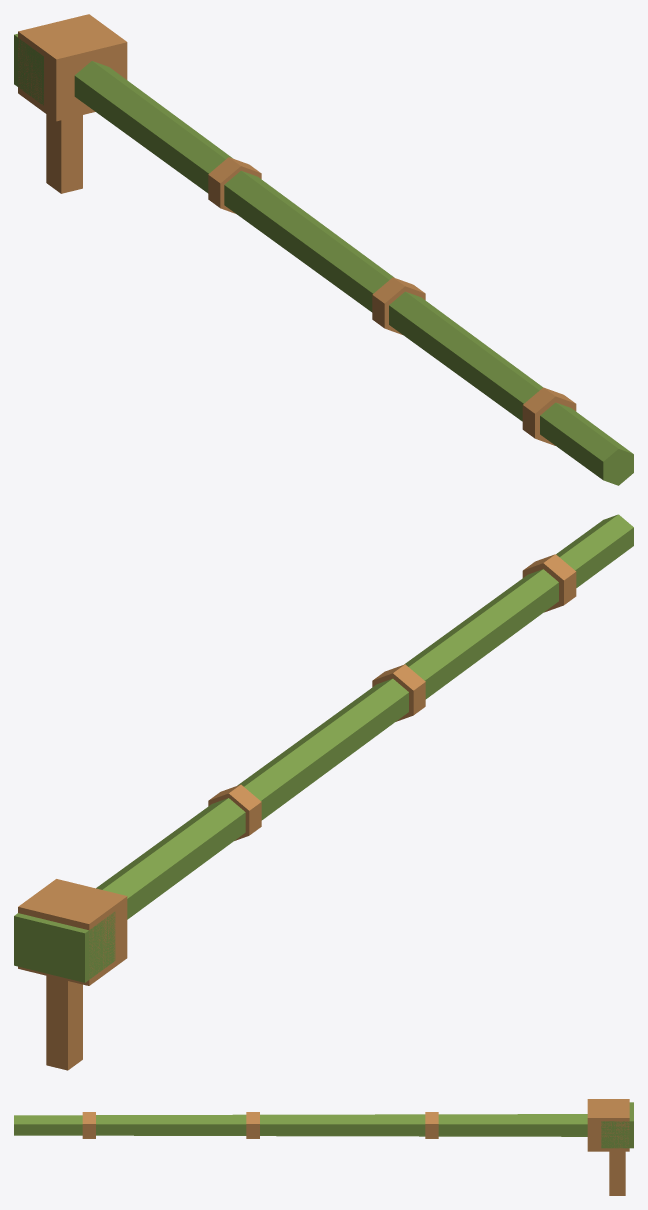
The model's file is take.glb.
3 renders of one model, top to bottom at view 1: azimuth 30°, elevation 25°; view 2: azimuth 150°, elevation 25°; view 3: azimuth 270°, elevation 25°, orthographic. The views are drawn at different scales.
Parts seen in each view (by area): view 1: Handle, Head, tine_0; view 2: Handle, Head, tine_0; view 3: Handle, Head, tine_0.
Part boxes in pixels (x1,y1,x2,y2): Handle: (74, 61, 633, 485); Head: (14, 14, 127, 121); tine_0: (46, 114, 82, 193); Handle: (96, 514, 633, 919); Head: (14, 879, 127, 985); tine_0: (46, 975, 82, 1070); Handle: (14, 1112, 587, 1138); Head: (587, 1099, 633, 1151); tine_0: (609, 1151, 625, 1195).
Bounding box in the file's own units: 3 × 6.25 × 41.6.
